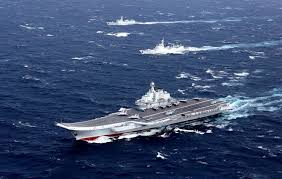tau_muctieu: (50, 92, 230, 132), (139, 37, 187, 57), (104, 15, 139, 24)
